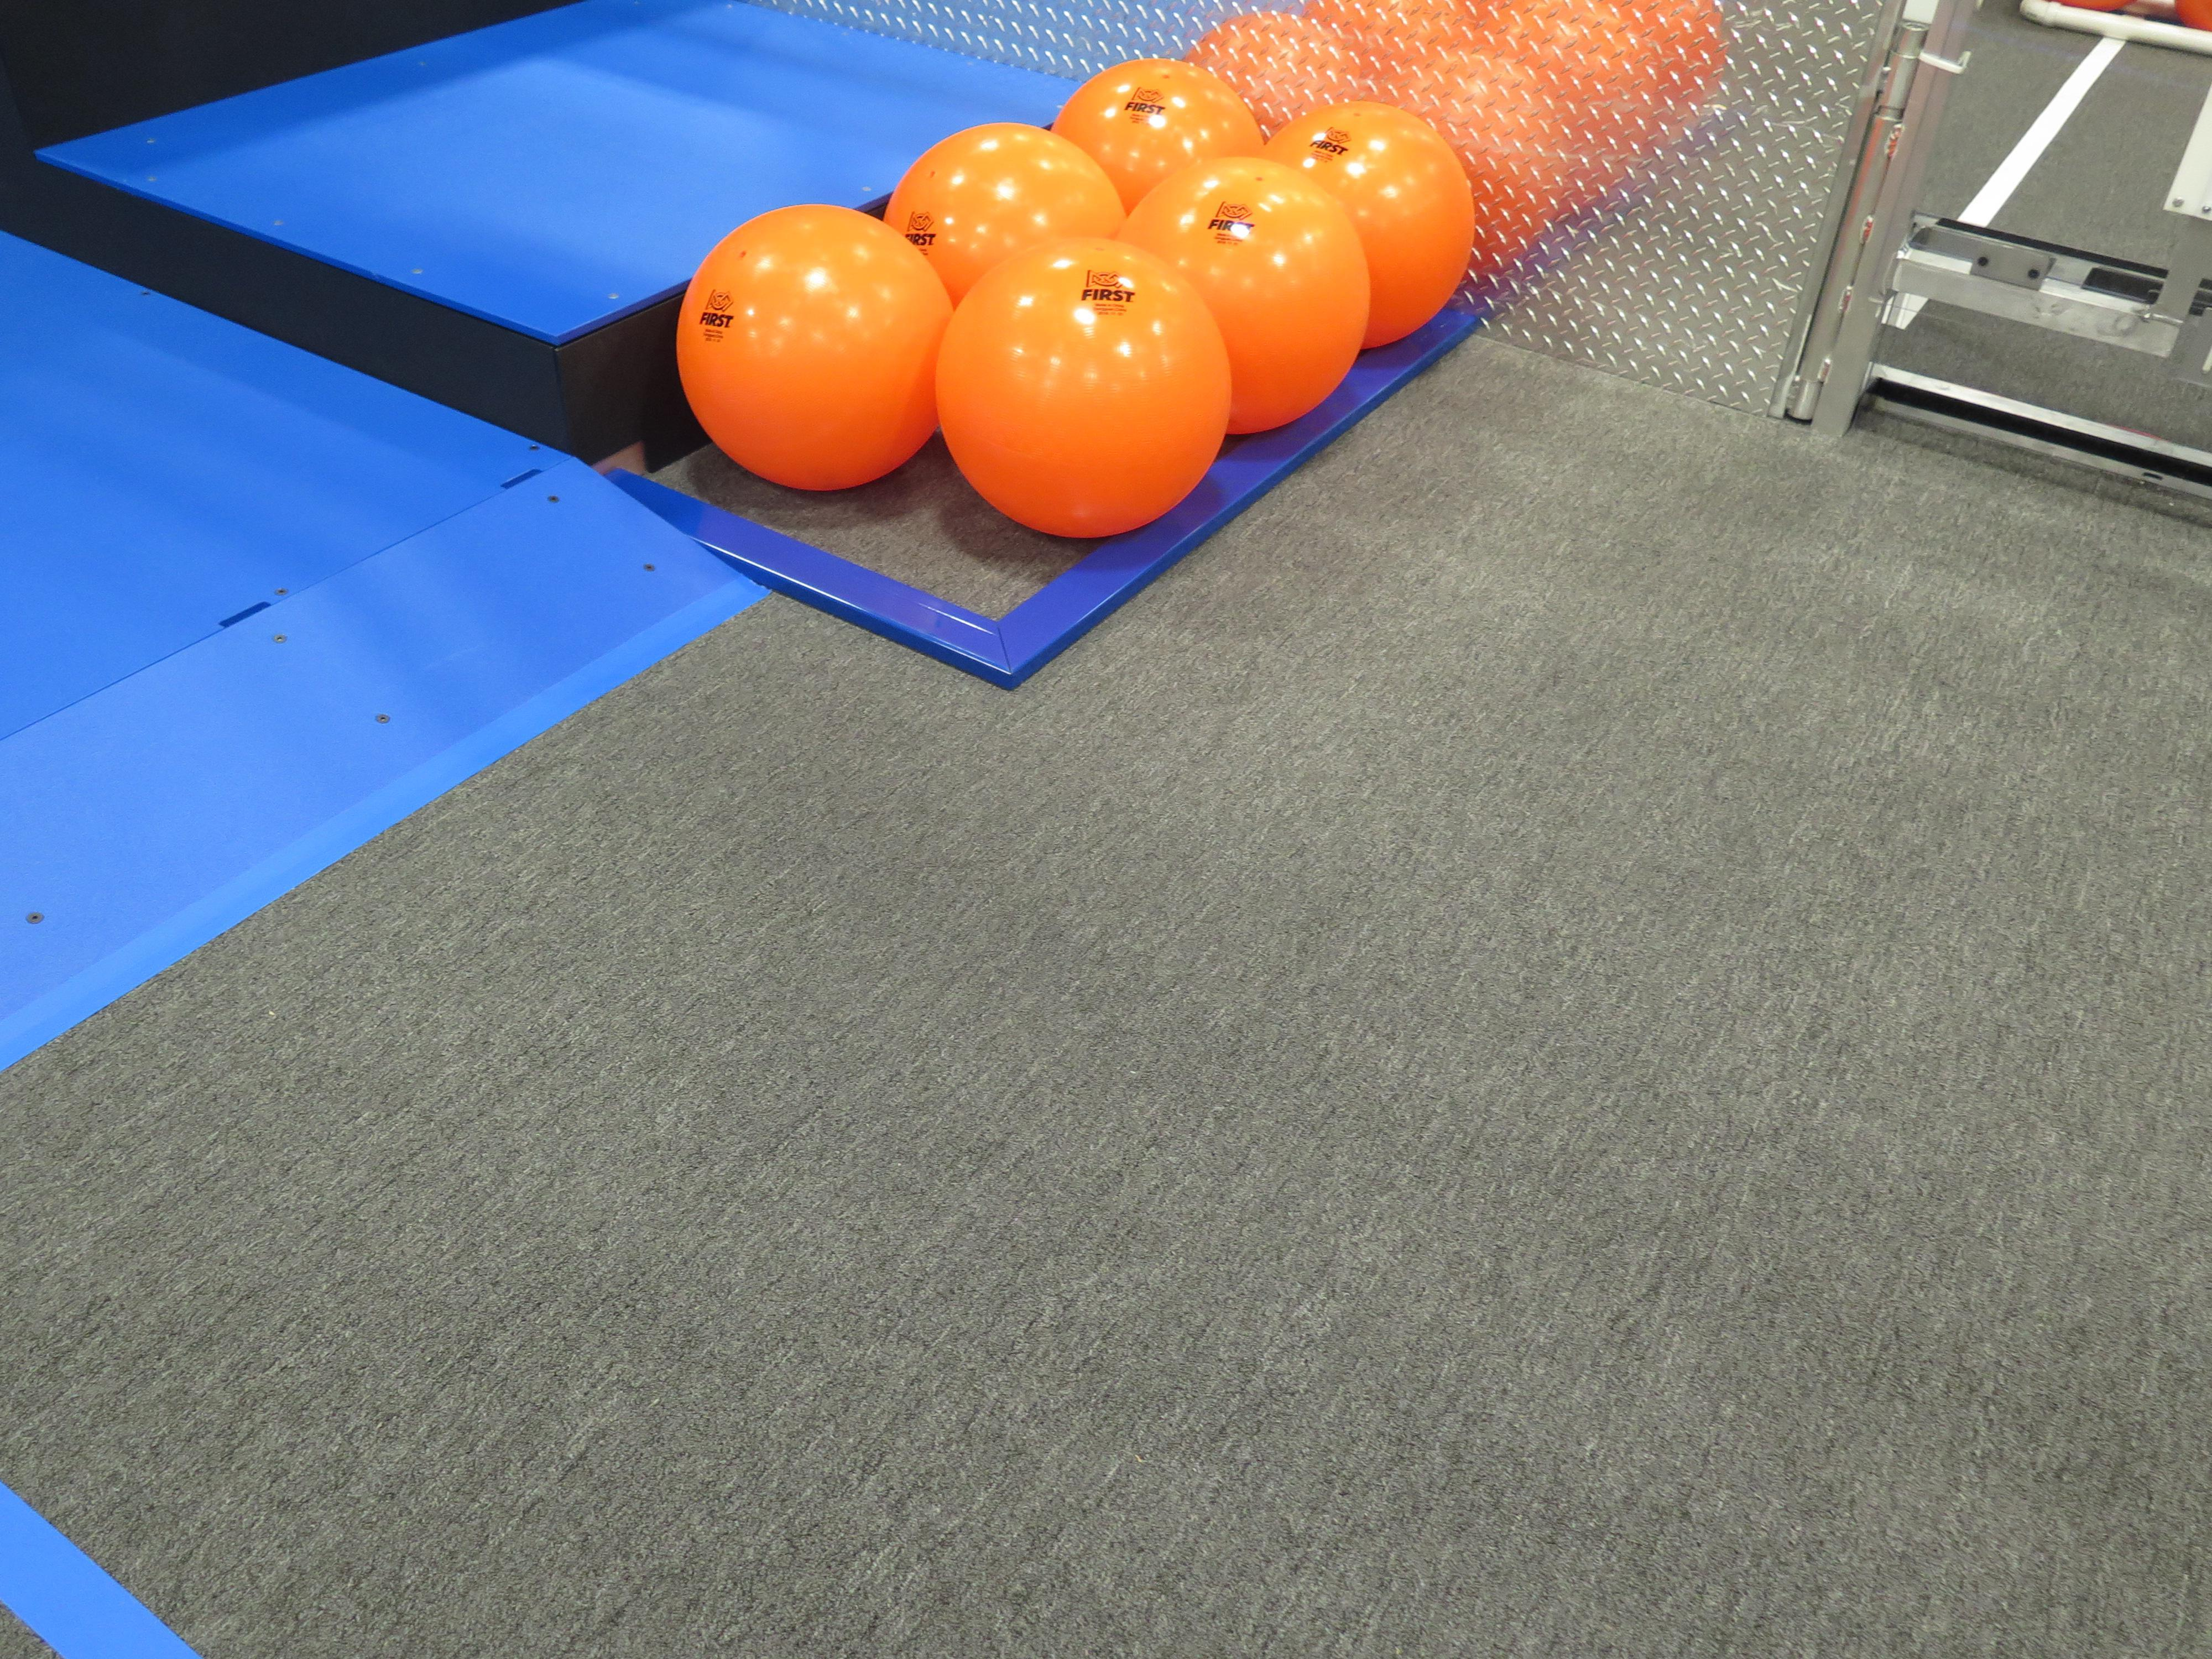Ball: (930, 234, 1231, 538), (676, 202, 956, 497), (1120, 153, 1369, 437), (1261, 99, 1479, 345), (880, 120, 1123, 314), (1047, 52, 1270, 225)
